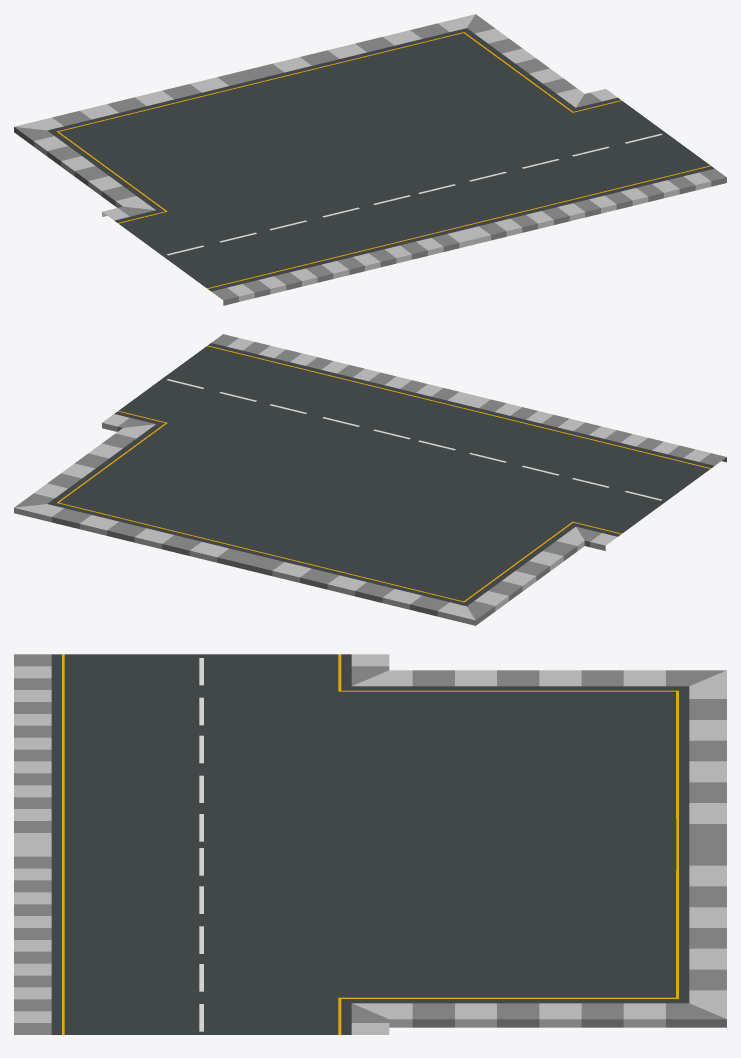
The model's file is SM_Road_Gas_Station.FBX.
3 renders of one model, top to bottom at view 1: azimuth 30°, elevation 25°; view 2: azimuth 150°, elevation 25°; view 3: azimuth 270°, elevation 25°, orthographic. The views are drawn at different scales.
Parts seen in each view (by area): view 1: SM_Road_Gas_Station; view 2: SM_Road_Gas_Station; view 3: SM_Road_Gas_Station.
Boxes of the visible parts, bbox=[...] form: SM_Road_Gas_Station: bbox=[14, 14, 726, 305]; SM_Road_Gas_Station: bbox=[14, 334, 726, 625]; SM_Road_Gas_Station: bbox=[14, 654, 726, 1034].
Size of what is drawn, in the model's own units: 2400 by 1900 by 25.
